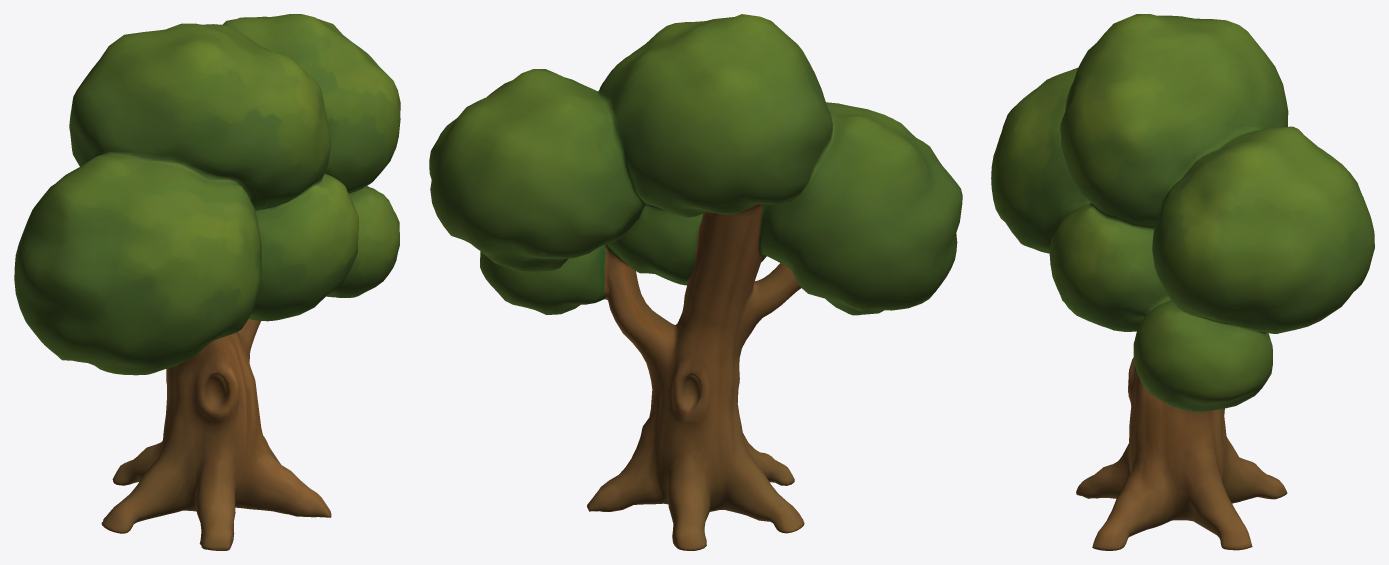
File: tree_oak.glb
The picture shows the model from 3 angles, left to right: view 1: azimuth 30°, elevation 25°; view 2: azimuth 150°, elevation 25°; view 3: azimuth 270°, elevation 25°; orthographic projection.
Visible parts, largest first — view 1: tripo_node_9e47afdd; view 2: tripo_node_9e47afdd; view 3: tripo_node_9e47afdd.
Boxes of the visible parts, x1=… form: tripo_node_9e47afdd: x1=14, y1=14, x2=400, y2=550; tripo_node_9e47afdd: x1=429, y1=14, x2=962, y2=550; tripo_node_9e47afdd: x1=991, y1=14, x2=1374, y2=550.
Bounding box in the file's own units: 91.37 × 97.65 × 70.8.
Materials: 1 (1 with a texture image).
